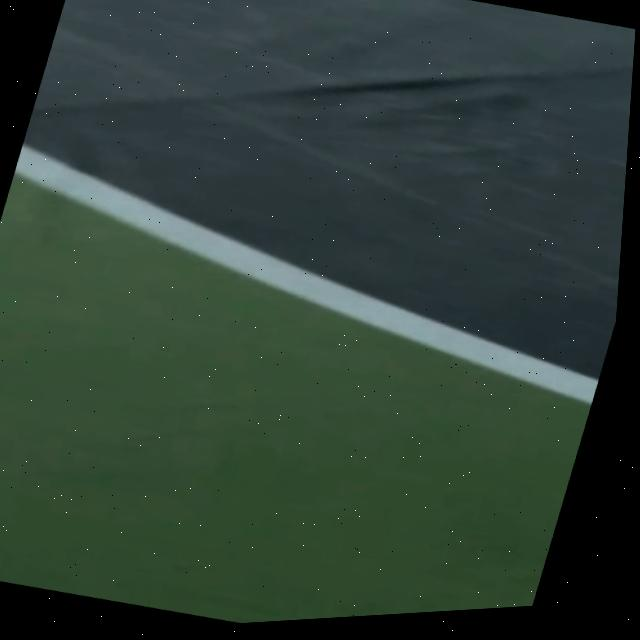right: (14, 142, 599, 402)
